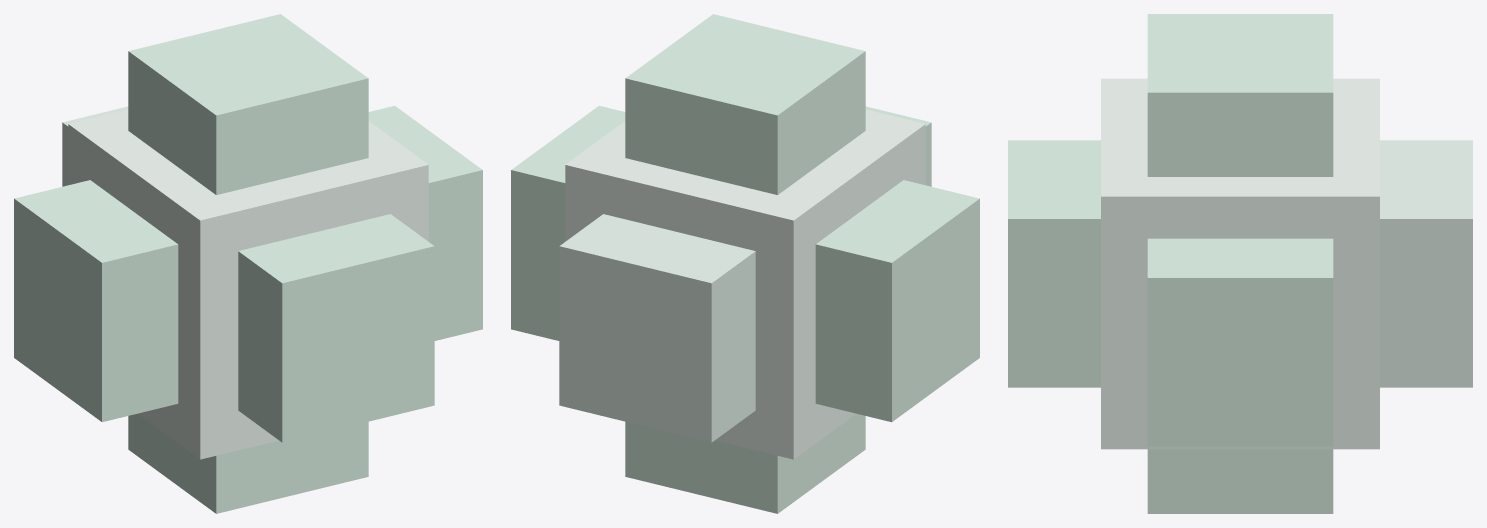
File: veras-core.glb
3 views of the same model, side by side, from view 1: azimuth 30°, elevation 25°; view 2: azimuth 150°, elevation 25°; view 3: azimuth 270°, elevation 25° (orthographic). The views are drawn at different scales.
Parts seen in each view (by area): view 1: veras-core; view 2: veras-core; view 3: veras-core.
Boxes of the visible parts, left/top/right/bottom form: veras-core: left=14, top=14, right=482, bottom=513; veras-core: left=511, top=14, right=979, bottom=513; veras-core: left=1008, top=14, right=1472, bottom=513.
Size of the model in its own units: 0.6 by 0.6 by 0.6.
